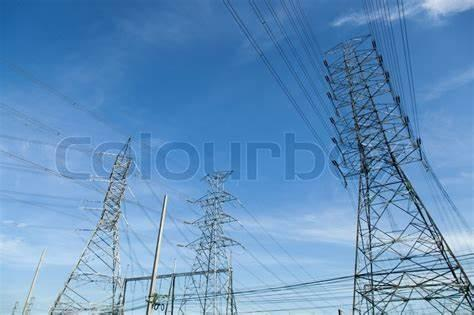power_tower: (310, 33, 473, 315), (48, 133, 140, 315), (181, 168, 246, 315)
